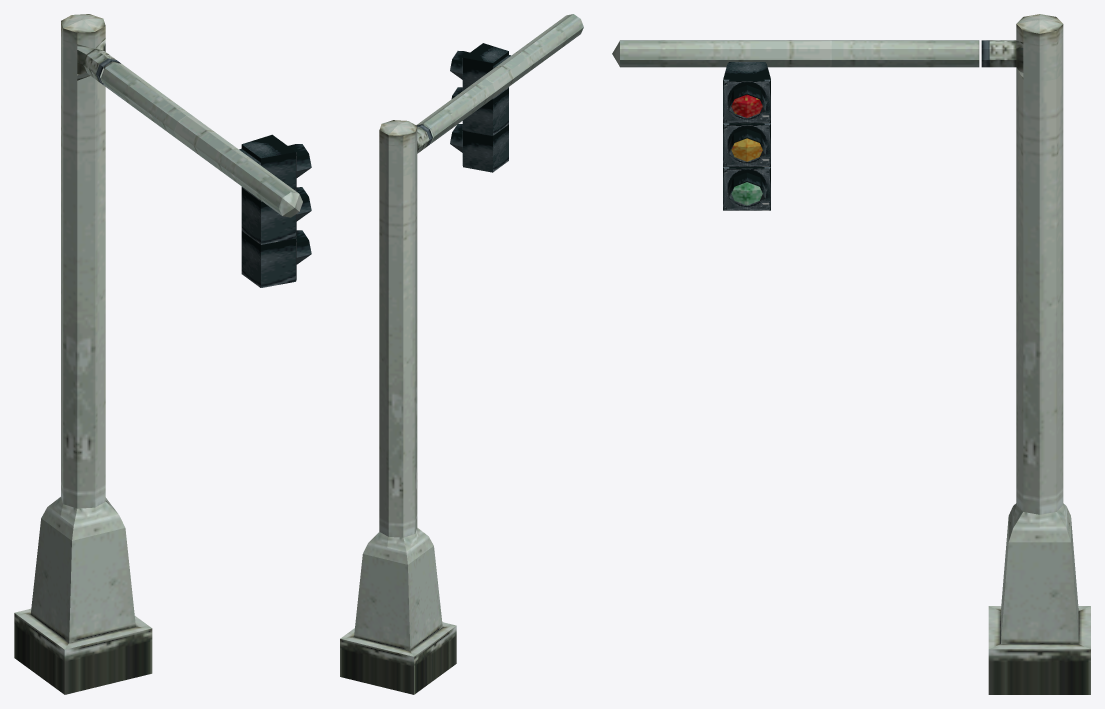
File: traffic_light_L.fbx
3 renders of one model, left to right at view 1: azimuth 30°, elevation 25°; view 2: azimuth 150°, elevation 25°; view 3: azimuth 270°, elevation 25°, orthographic. The views are drawn at different scales.
Visible parts, largest first — view 1: traffic_light_L; view 2: traffic_light_L; view 3: traffic_light_L.
Part boxes in pixels (x1,y1,x2,y2): traffic_light_L: [14, 14, 311, 694]; traffic_light_L: [340, 14, 583, 694]; traffic_light_L: [612, 14, 1090, 694].
Bounding box in the file's own units: 108 × 566 × 376.
Materials: 1 (1 with a texture image).
